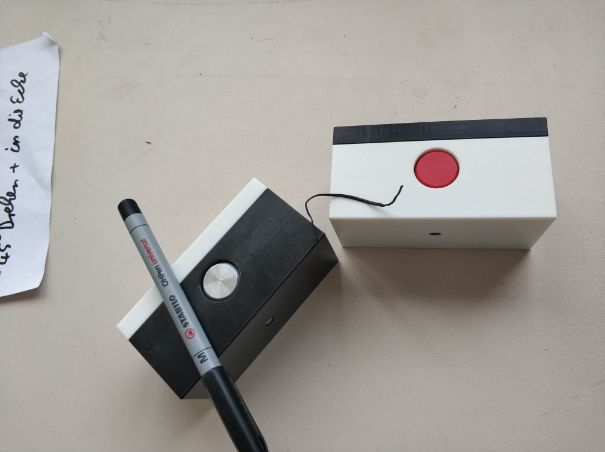black+white+red: (326, 114, 559, 254)
white+black+silver: (113, 175, 344, 401)
